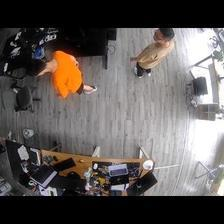normal: (28, 50, 98, 99), (129, 27, 177, 77)
